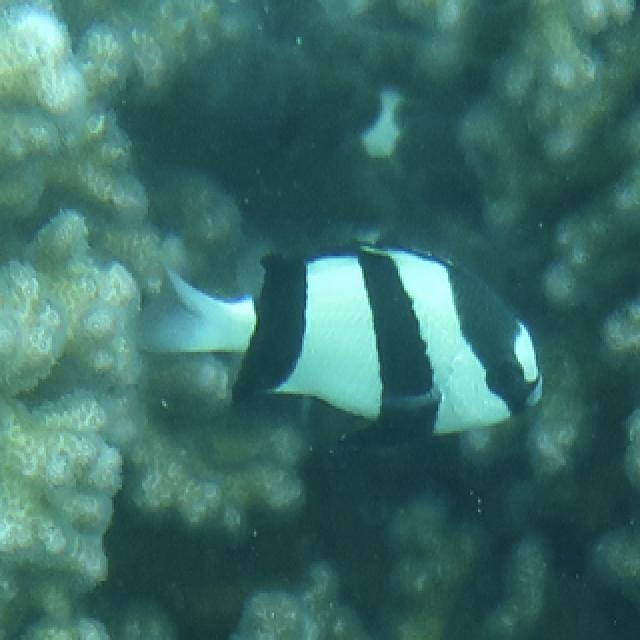ThreeStripedDamselfish: (140, 244, 544, 450)
